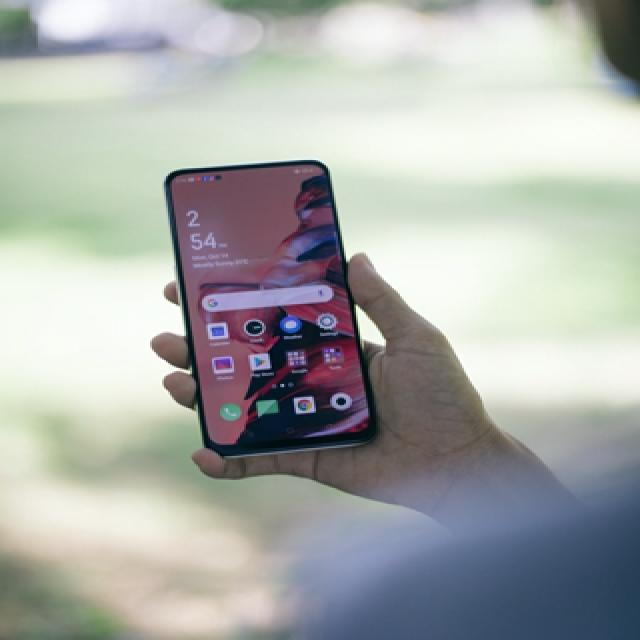cellphone: (162, 158, 378, 460)
